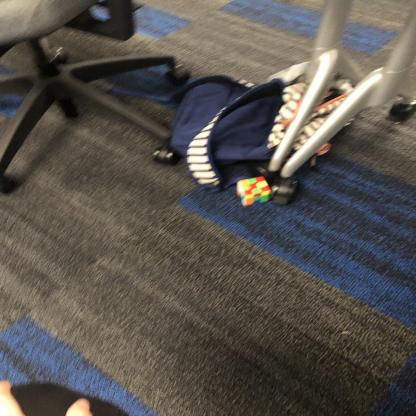UnsolvedCube: (237, 177, 275, 207)
